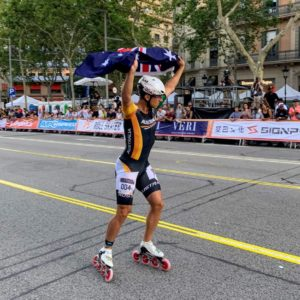roller_blade: (132, 241, 172, 273), (91, 245, 117, 284)
